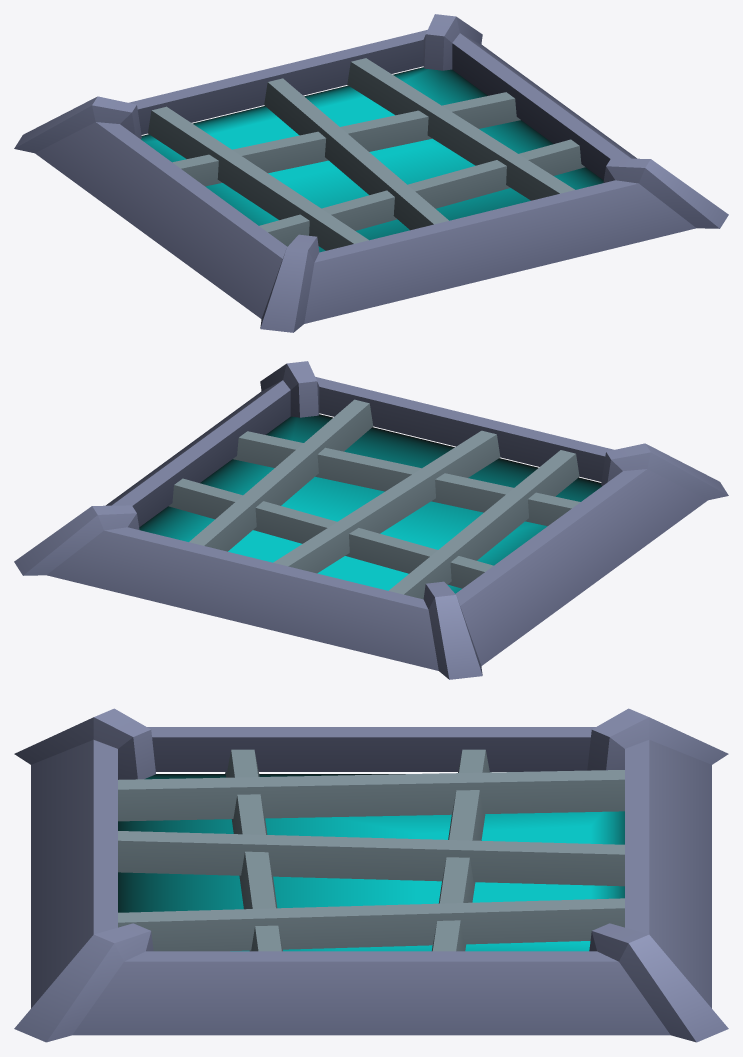
The model's file is obstacle-burner_H3.glb.
The picture shows the model from 3 angles, top to bottom: view 1: azimuth 30°, elevation 25°; view 2: azimuth 150°, elevation 25°; view 3: azimuth 270°, elevation 25°; orthographic projection. The views are drawn at different scales.
Visible parts, largest first — view 1: obstacle-burner_H3; view 2: obstacle-burner_H3; view 3: obstacle-burner_H3.
Part boxes in pixels (left/top/right/bottom): obstacle-burner_H3: left=14, top=14, right=728, bottom=332; obstacle-burner_H3: left=14, top=361, right=728, bottom=679; obstacle-burner_H3: left=14, top=708, right=728, bottom=1042.
Size of the model in its own units: 2.76 by 0.2797 by 2.76.
